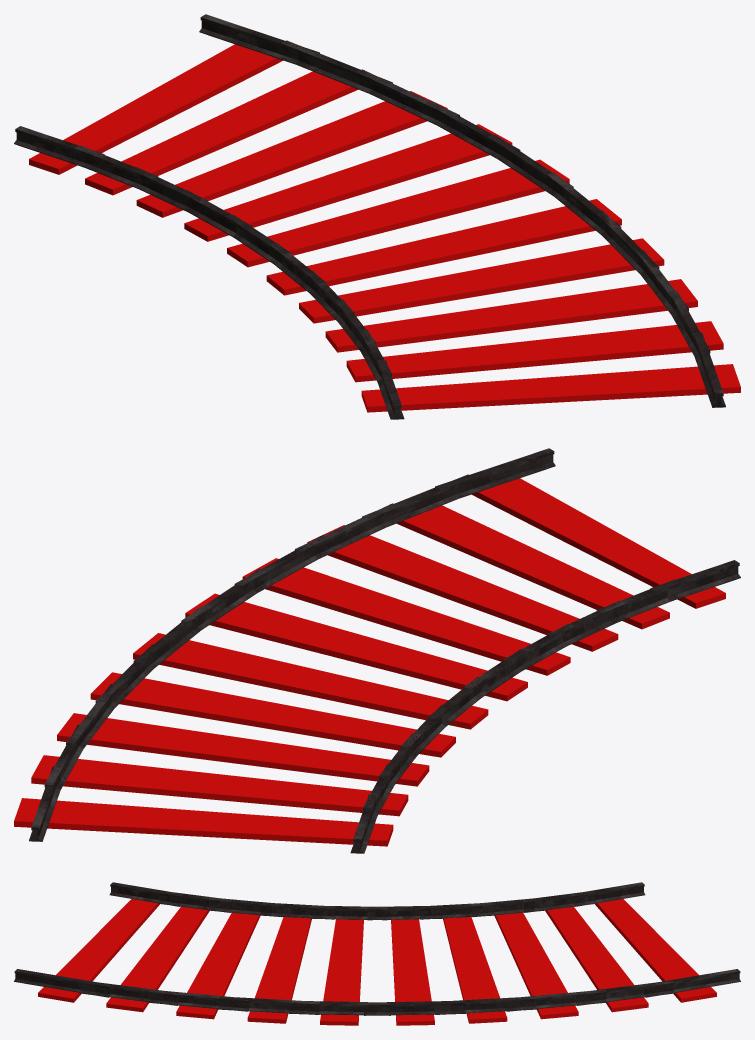
File: bendleft_railway_tracks.fbx
3 views of the same model, one above another, from view 1: azimuth 30°, elevation 25°; view 2: azimuth 150°, elevation 25°; view 3: azimuth 270°, elevation 25° (orthographic). The views are drawn at different scales.
Parts seen in each view (by area): view 1: rails.002; view 2: rails.002; view 3: rails.002.
Part boxes in pixels (x1,y1,x2,y2): rails.002: (14, 14, 740, 419); rails.002: (14, 448, 740, 853); rails.002: (14, 882, 740, 1025).
Size of the model in its own units: 368 by 18.27 by 860.
